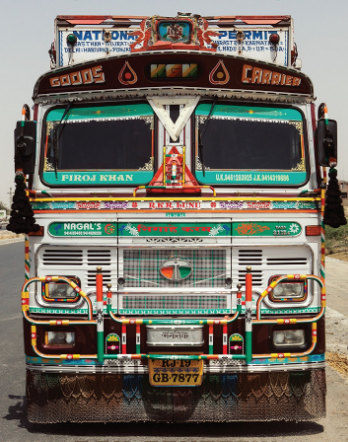truck: (10, 10, 338, 432)
